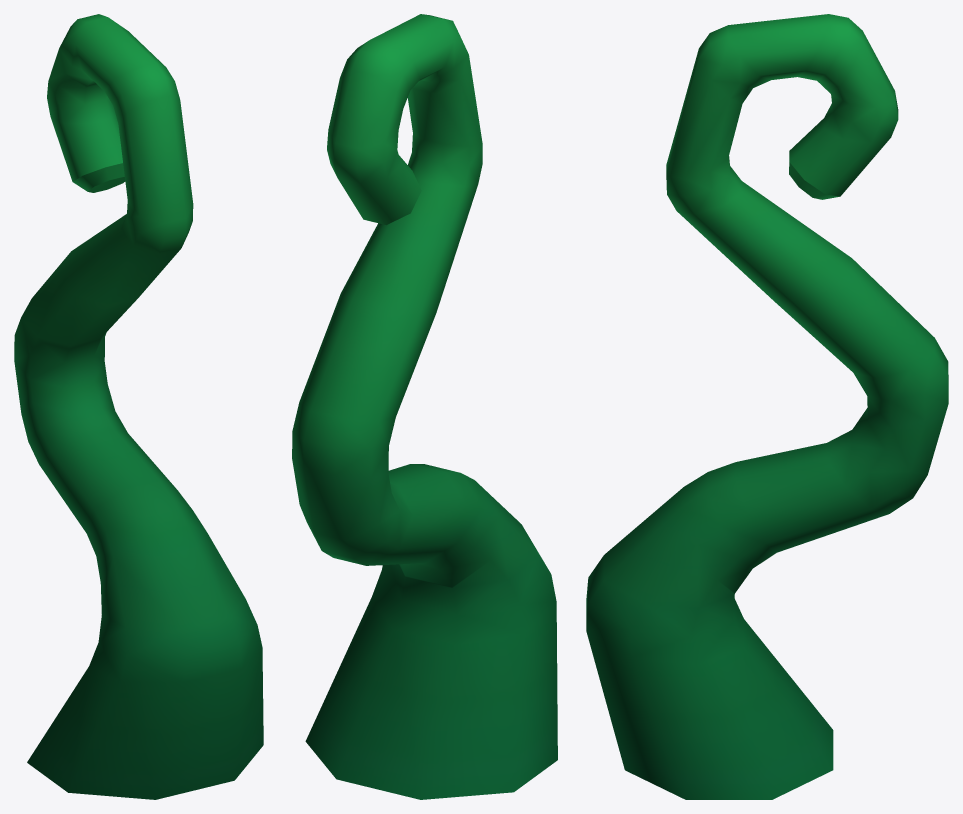
Rendered from Vine_3_2.glb.
3 views of the same model, side by side, from view 1: azimuth 30°, elevation 25°; view 2: azimuth 150°, elevation 25°; view 3: azimuth 270°, elevation 25° (orthographic). The views are drawn at different scales.
Visible parts, largest first — view 1: Vine_3_2; view 2: Vine_3_2; view 3: Vine_3_2.
Boxes of the visible parts, x1=… form: Vine_3_2: x1=14, y1=14, x2=263, y2=799; Vine_3_2: x1=292, y1=14, x2=557, y2=799; Vine_3_2: x1=586, y1=14, x2=948, y2=799.
Size of the model in its own units: 0.227 by 0.7752 by 0.3487.
1 material, 1 textured.
